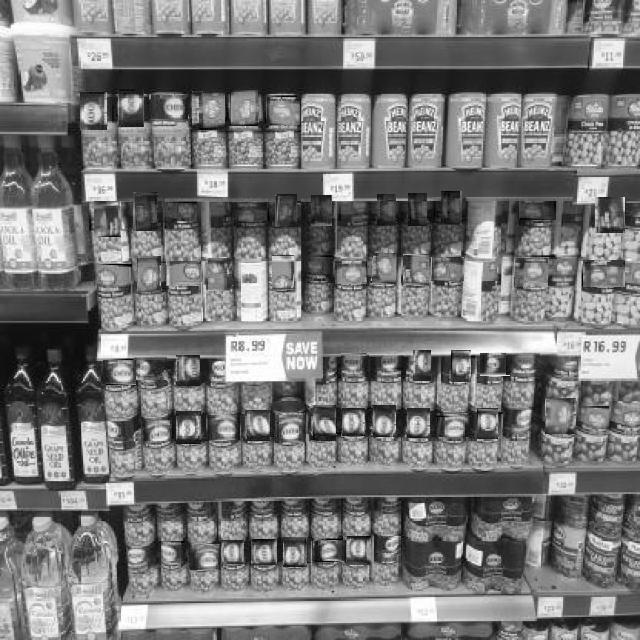Beans: (514, 256, 557, 287), (191, 92, 225, 130), (582, 260, 625, 287), (545, 397, 576, 434), (548, 259, 580, 293), (594, 198, 625, 233), (148, 94, 188, 121), (230, 89, 259, 126), (94, 200, 121, 237), (117, 90, 144, 127), (81, 92, 107, 130), (266, 96, 300, 125), (274, 412, 305, 443), (94, 265, 134, 289), (134, 191, 158, 231), (166, 260, 201, 286), (205, 414, 240, 440), (369, 535, 406, 559), (102, 359, 136, 385), (311, 405, 336, 440), (176, 410, 201, 444), (342, 536, 371, 565), (435, 413, 470, 437), (402, 255, 429, 286), (505, 408, 536, 435), (189, 543, 220, 570), (578, 406, 610, 432), (138, 256, 161, 292), (430, 257, 464, 281), (208, 257, 232, 291), (244, 410, 270, 441), (312, 539, 346, 562), (335, 260, 367, 284), (135, 357, 167, 381), (518, 200, 556, 220), (157, 540, 186, 566), (479, 352, 510, 376), (273, 255, 294, 290), (374, 404, 396, 437), (440, 192, 462, 225), (372, 254, 396, 284), (176, 356, 200, 386), (506, 354, 540, 375), (407, 407, 430, 438), (129, 548, 156, 574), (275, 194, 296, 227), (284, 537, 307, 567), (339, 202, 373, 222), (250, 540, 277, 565), (305, 255, 337, 276), (342, 407, 365, 436), (311, 195, 332, 226), (451, 350, 471, 382), (478, 407, 498, 439), (407, 194, 427, 226), (232, 203, 267, 221), (163, 202, 198, 220), (376, 194, 396, 225), (143, 420, 172, 441), (220, 540, 244, 564), (412, 351, 431, 381), (342, 354, 369, 375), (376, 355, 405, 370)
